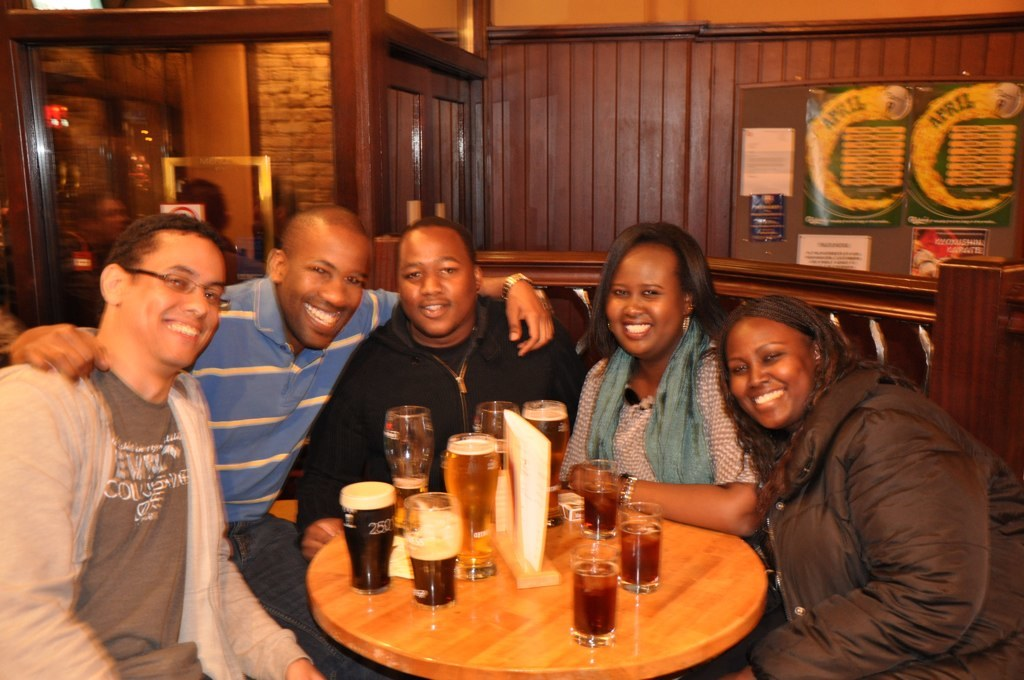Beer: (442, 431, 501, 574), (337, 482, 396, 591), (524, 396, 567, 528), (565, 557, 622, 647), (618, 513, 663, 589), (572, 465, 624, 530), (412, 535, 455, 606), (396, 469, 424, 496)
